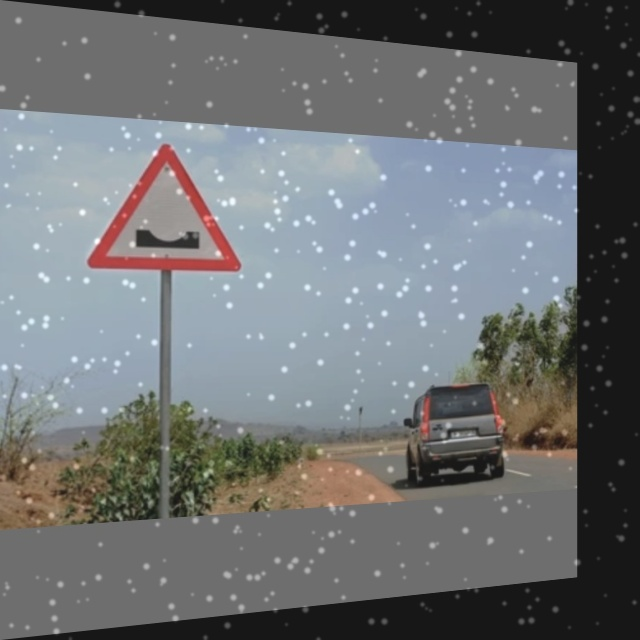Dangerous_Dip: (86, 137, 241, 273)
